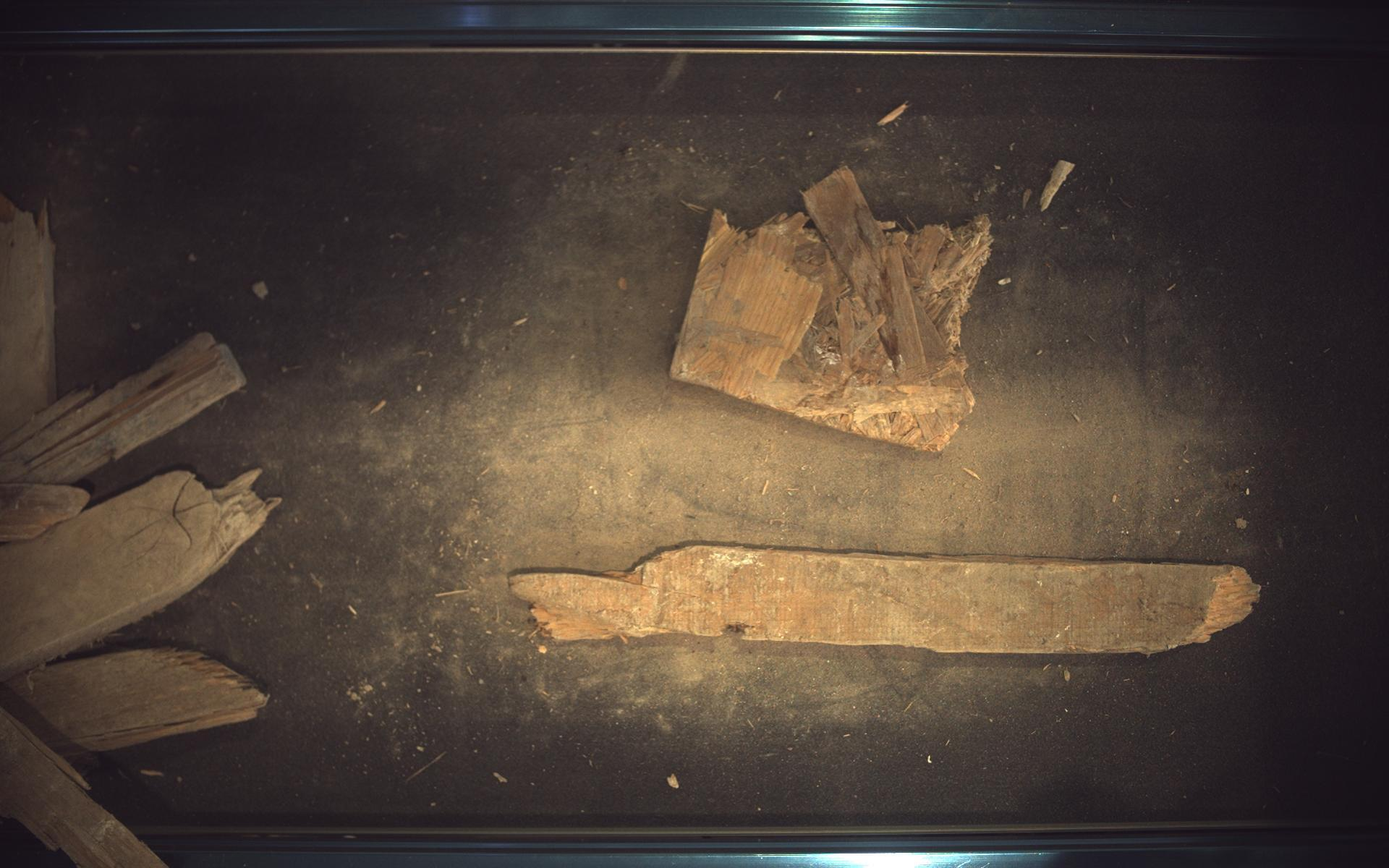wood: (672, 166, 994, 451), (509, 545, 1262, 655)
